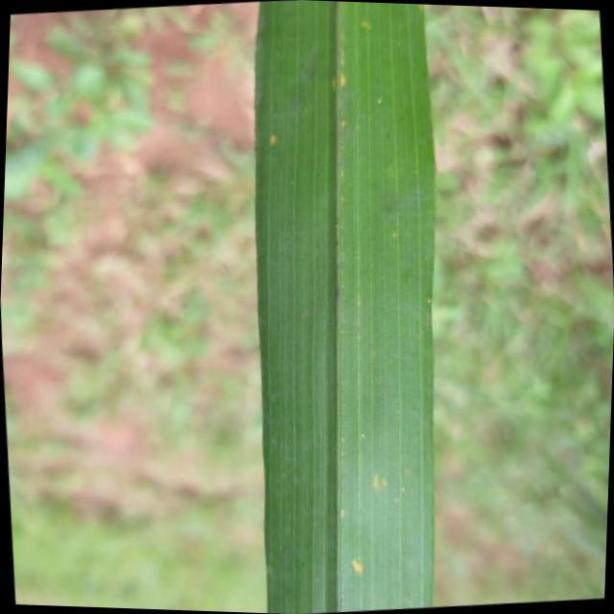Kalium: (251, 0, 440, 614)
